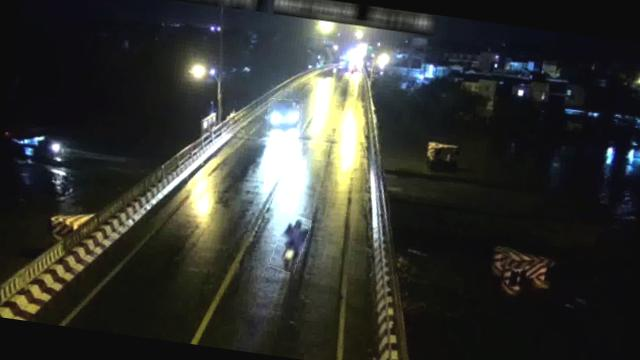Bike: (270, 212, 310, 274)
Car: (265, 97, 304, 136)
